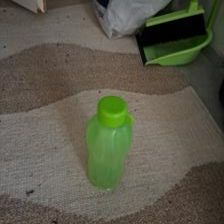bottle: (84, 92, 132, 188)
